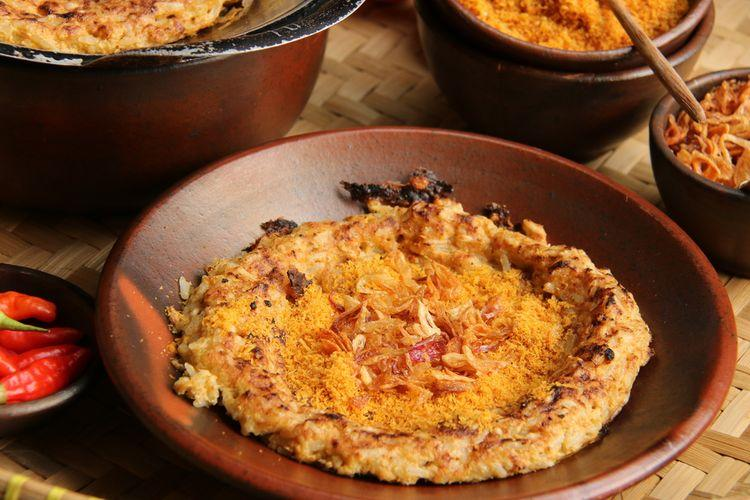telur: (258, 243, 574, 448)
